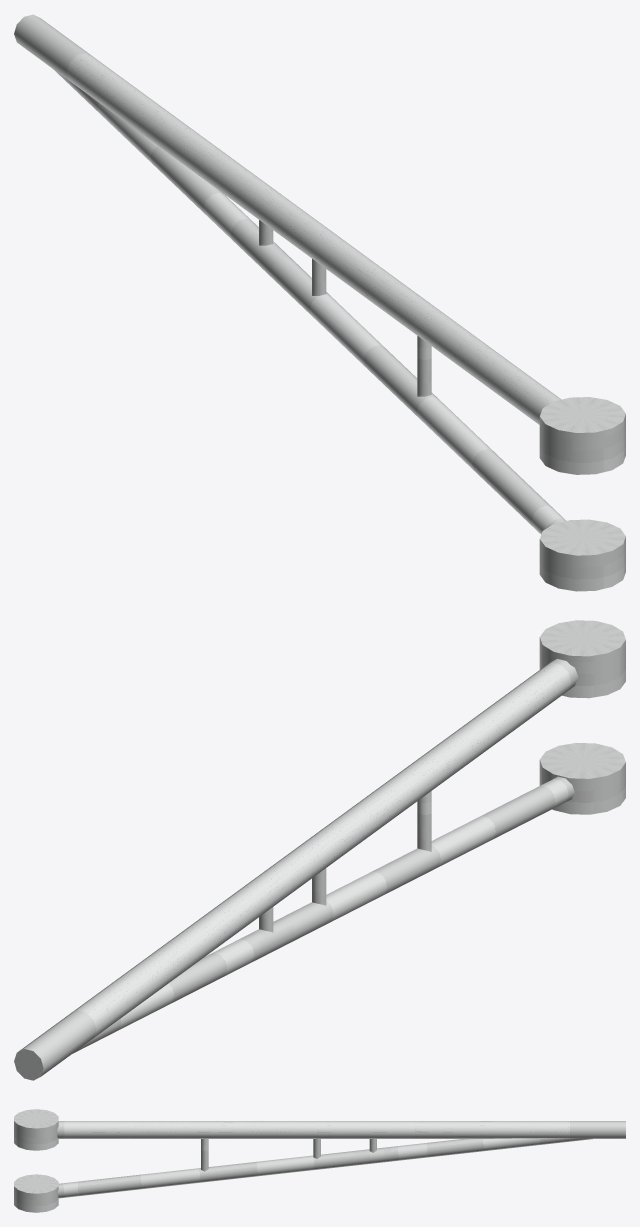
File: trusssignalarm_level10_inv.obj
The picture shows the model from 3 angles, top to bottom: view 1: azimuth 30°, elevation 25°; view 2: azimuth 150°, elevation 25°; view 3: azimuth 270°, elevation 25°; orthographic projection. The views are drawn at different scales.
Visible parts, largest first — view 1: trusssignalarm_level10_inv; view 2: trusssignalarm_level10_inv; view 3: trusssignalarm_level10_inv.
Boxes of the visible parts, x1=… form: trusssignalarm_level10_inv: x1=14, y1=14, x2=625, y2=591; trusssignalarm_level10_inv: x1=14, y1=620, x2=625, y2=1080; trusssignalarm_level10_inv: x1=14, y1=1109, x2=625, y2=1212.
Size of the model in its own units: 0.0751 by 0.152 by 1.
